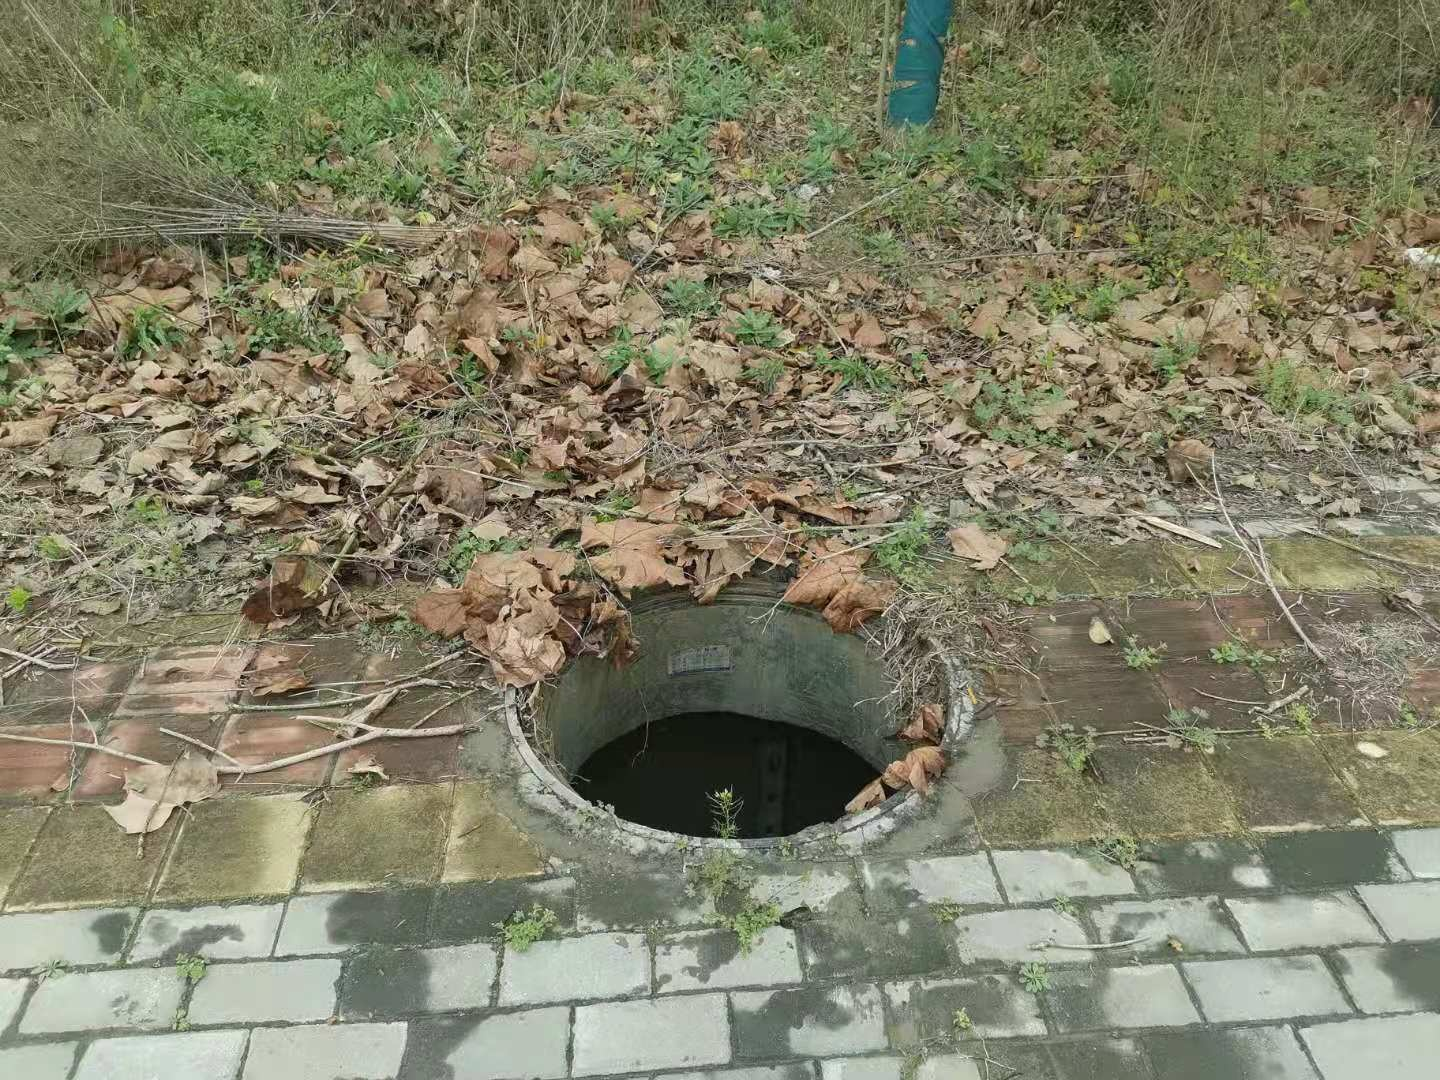lose: (502, 567, 967, 838)
